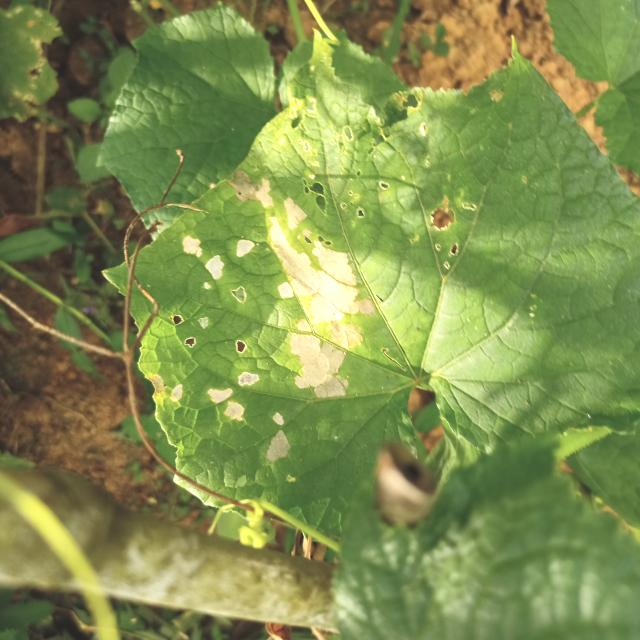disease_cucumber: (144, 172, 382, 472)
